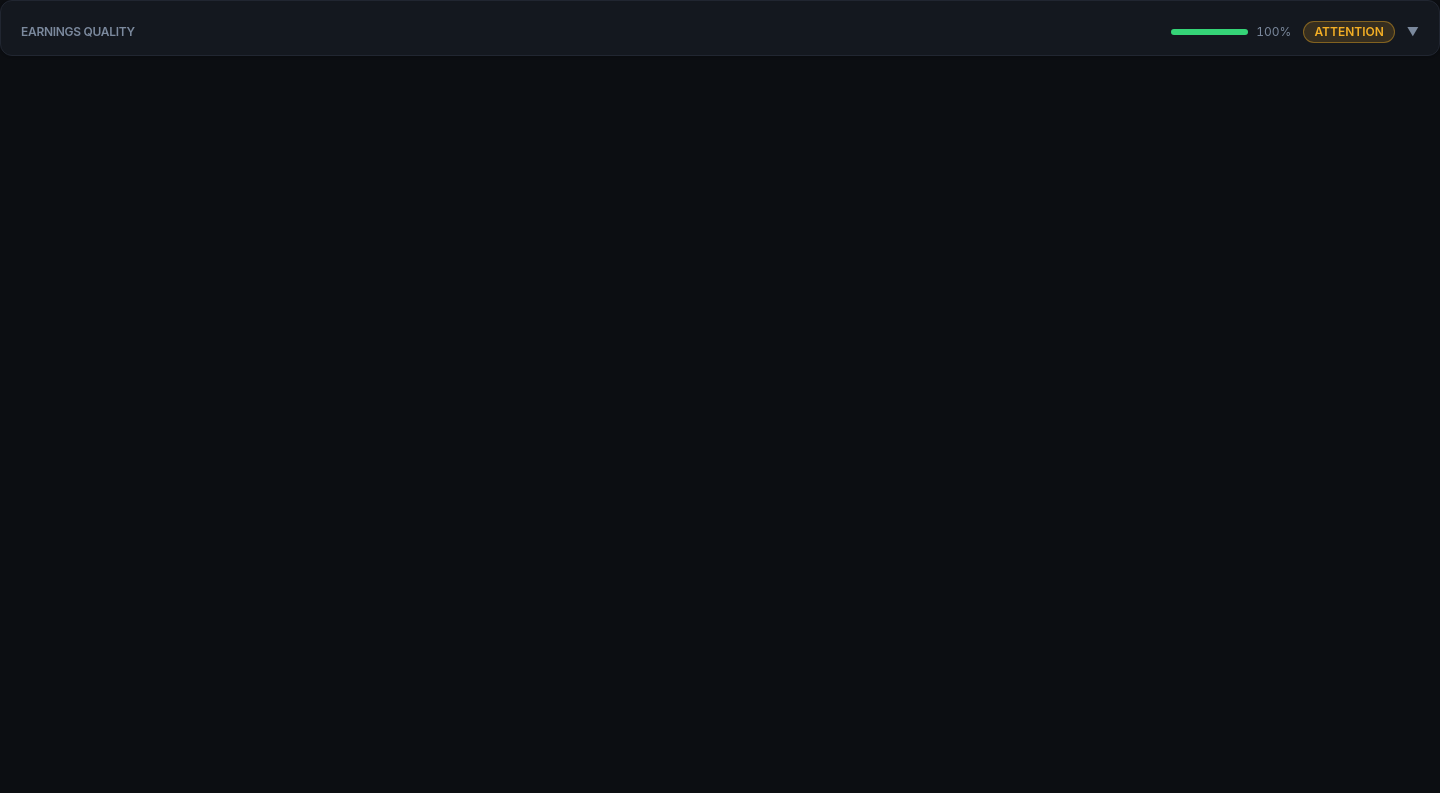
Scenario: EarningsQualitySection › affiche N/A pour M-Score null
Click the button with test id "eq-toggle": [78, 32] box top-left (21, 21), bottom-right (1419, 43)
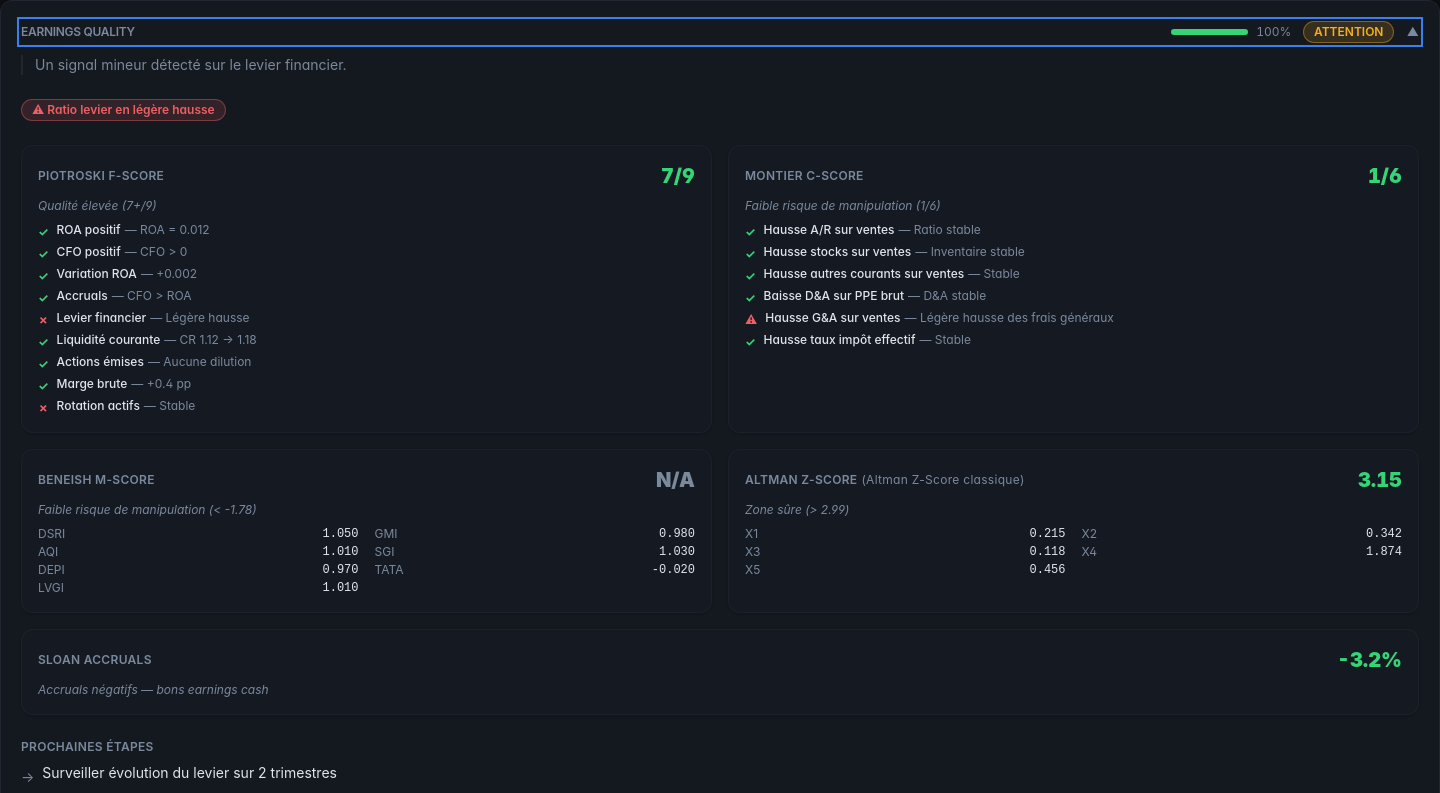
Now the text with test id "mscore-value" reads "N/A", box top-left (656, 468), bottom-right (695, 492)
